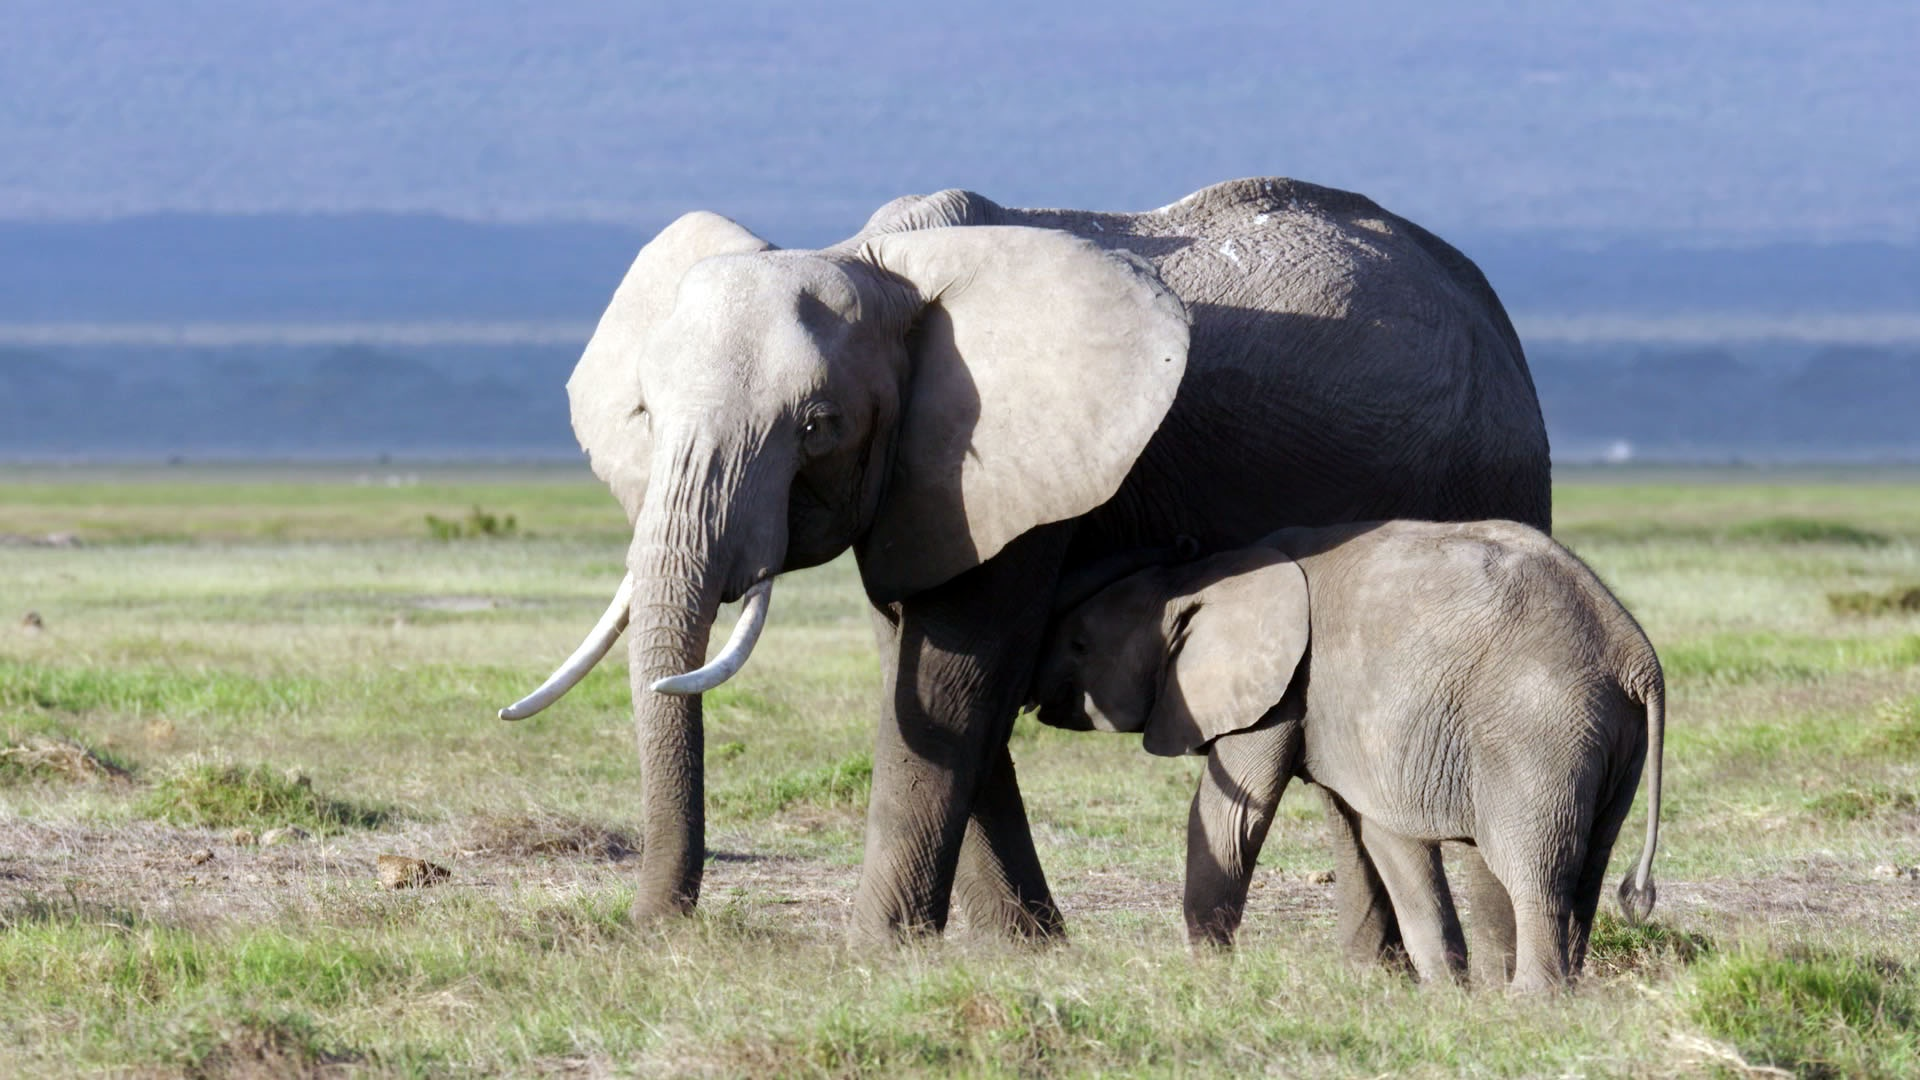elephant: (491, 179, 1559, 947), (967, 506, 1675, 1000)
